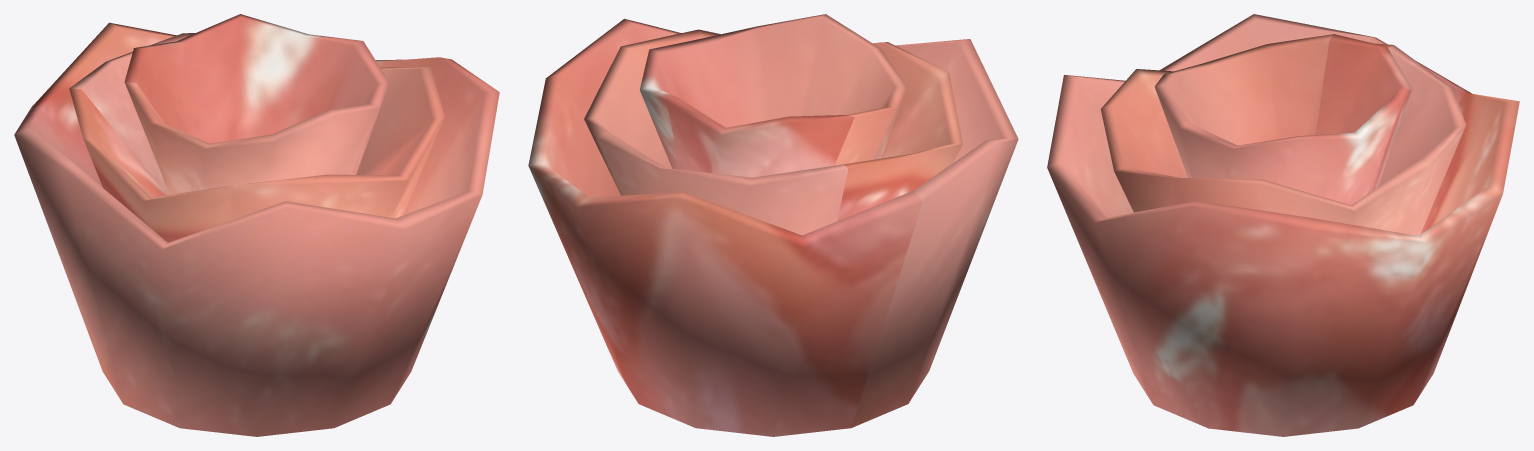
The model's file is gari.fbx.
The picture shows the model from 3 angles, left to right: view 1: azimuth 30°, elevation 25°; view 2: azimuth 150°, elevation 25°; view 3: azimuth 270°, elevation 25°; orthographic projection. The views are drawn at different scales.
Parts seen in each view (by area): view 1: gari; view 2: gari; view 3: gari.
Boxes of the visible parts, x1,y1,x2,y2 form: gari: [14, 14, 499, 436]; gari: [528, 14, 1018, 436]; gari: [1047, 14, 1519, 436].
Bounding box in the file's own units: 3.76 × 2.59 × 3.76.
